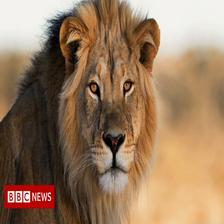Lion: (1, 0, 166, 183)
